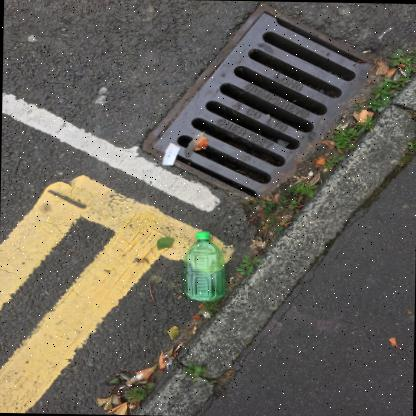Clear plastic bottle: (183, 231, 225, 302)
Normal paper: (162, 142, 180, 165)
